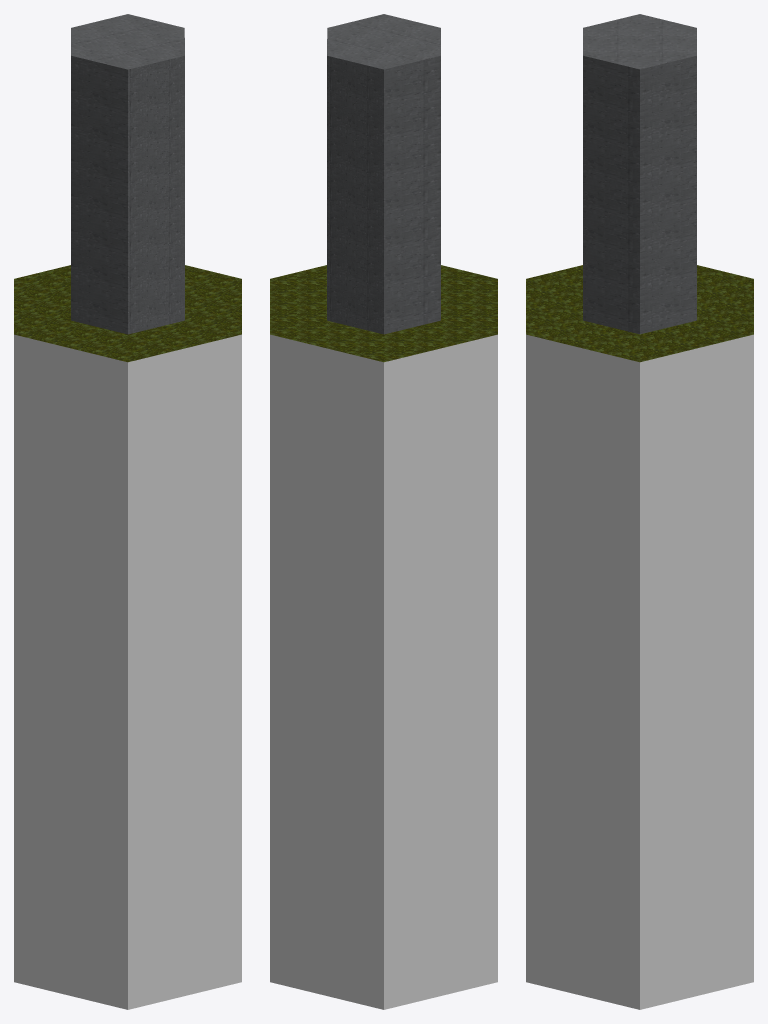
File: Hex_Tall_14 1.fbx
3 renders of one model, left to right at view 1: azimuth 30°, elevation 25°; view 2: azimuth 150°, elevation 25°; view 3: azimuth 270°, elevation 25°, orthographic.
Parts seen in each view (by area): view 1: TileHex14; view 2: TileHex14; view 3: TileHex14.
Part boxes in pixels (<box>): TileHex14: <box>14,14,241,1009</box>; TileHex14: <box>270,14,497,1009</box>; TileHex14: <box>526,14,753,1009</box>.
Bounding box in the file's own units: 118 × 450 × 102.
Materials: 3 (2 with a texture image).
